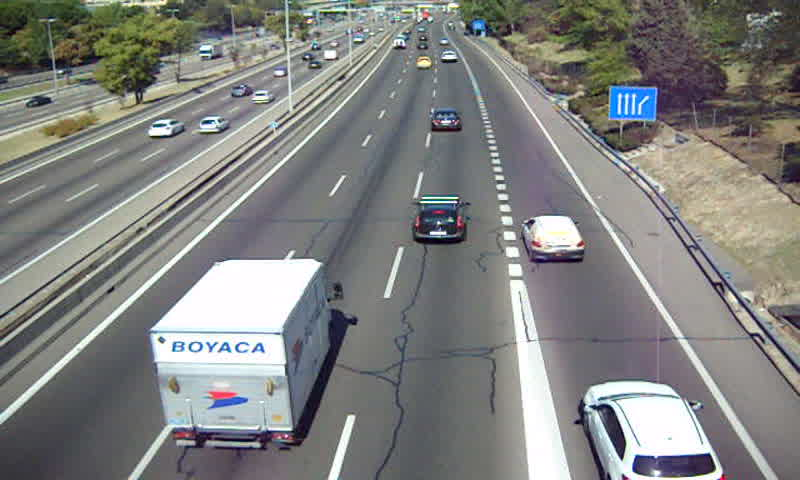car: (583, 382, 721, 480), (521, 215, 585, 261), (412, 195, 468, 240), (429, 108, 461, 131), (415, 55, 432, 71), (440, 49, 458, 63)
small-truck: (146, 259, 336, 449)
